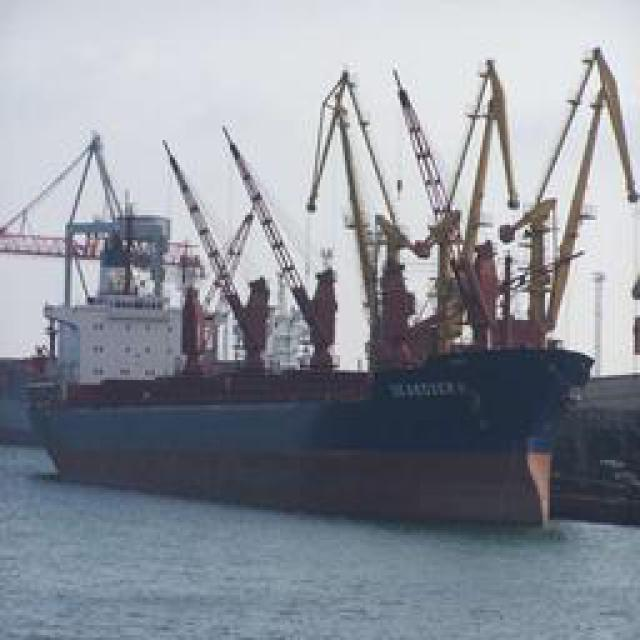Ship: (15, 45, 630, 535)
